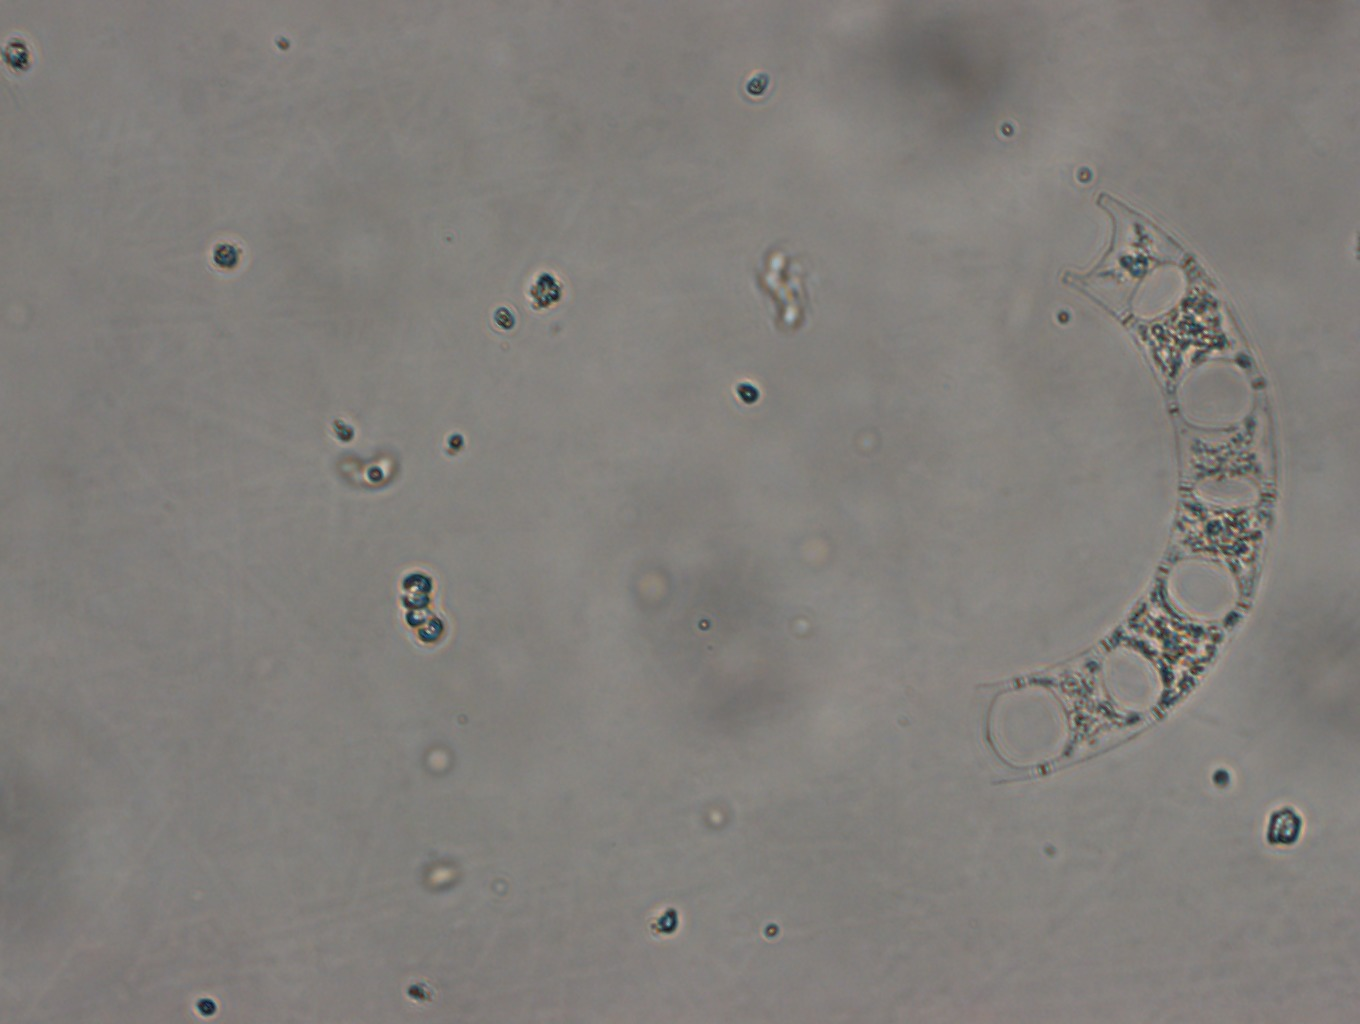eucampia: (970, 177, 1278, 797)
